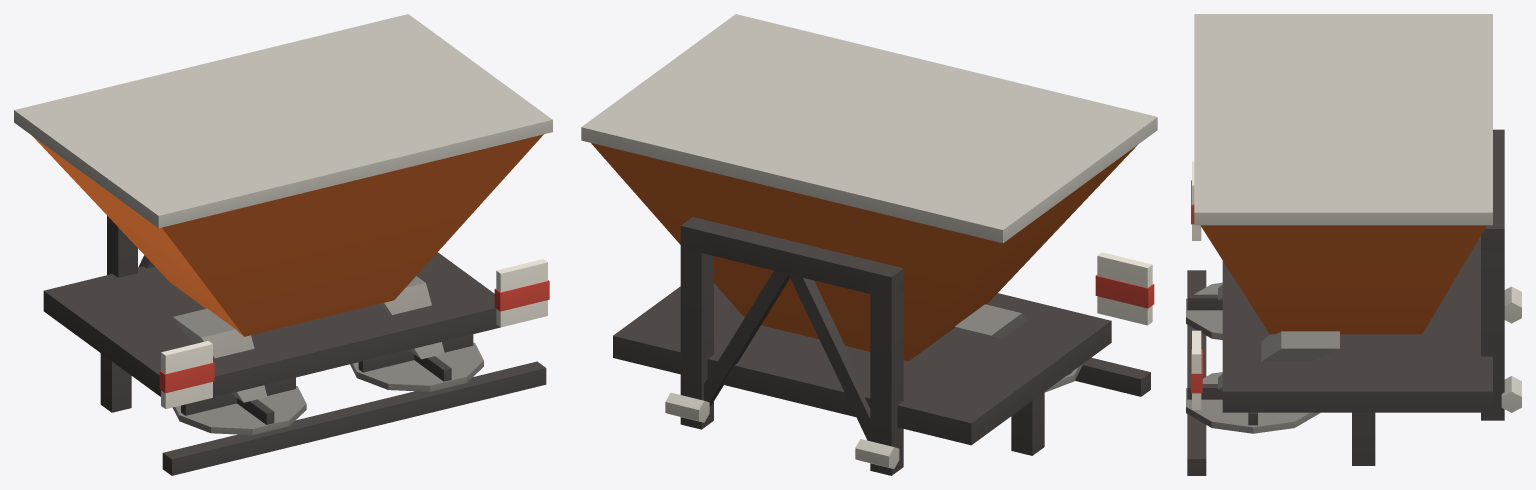
File: spreader_basic.glb
The picture shows the model from 3 angles, left to right: view 1: azimuth 30°, elevation 25°; view 2: azimuth 150°, elevation 25°; view 3: azimuth 270°, elevation 25°; orthographic projection. The views are drawn at different scales.
Visible parts, largest first — view 1: spreader_basic, spinner_R, spinner_L; view 2: spreader_basic; view 3: spreader_basic, spinner_R, spinner_L.
Part boxes in pixels (box(x1,y1,x2,y2)): spreader_basic: box(14, 14, 552, 475); spinner_R: box(350, 334, 483, 391); spinner_L: box(173, 377, 306, 435); spreader_basic: box(581, 14, 1157, 475); spreader_basic: box(1187, 14, 1521, 475); spinner_R: box(1186, 372, 1319, 433); spinner_L: box(1186, 282, 1222, 339).
Size of the model in its own units: 2 by 1.26 by 1.43.
2 materials, 2 textured.
